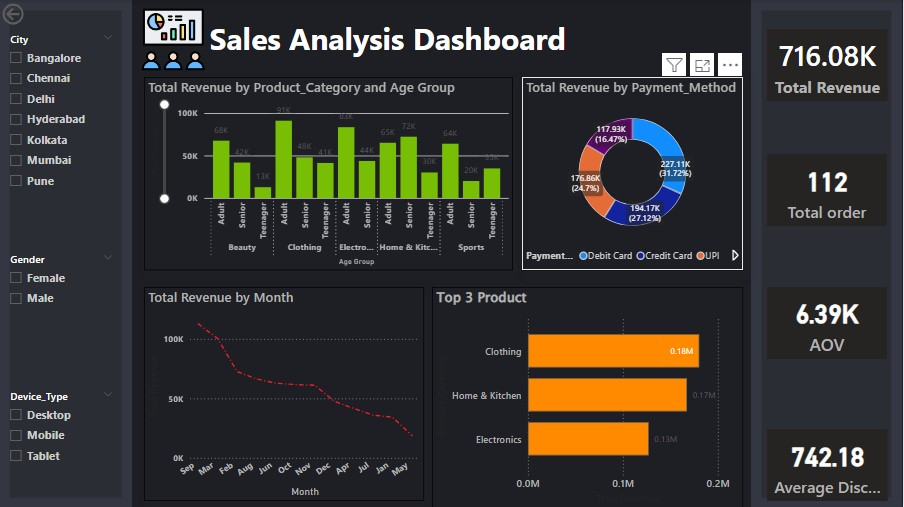

The dashboard page shown, as its layout file describes it:
{"tool":"powerbi","page":{"name":"Page 1","canvas":[1280,720],"ordinal":0},"visuals":[{"type":"shape","box":[1065.8,0,214,720],"z":0},{"type":"shape","box":[0,0,188.5,720],"z":1000},{"type":"slicer","fields":{"Values":["dim_customer.City"]},"box":[2.8,39.7,170.1,246.6],"z":2000},{"type":"slicer","fields":{"Values":["dim_customer.Gender"]},"box":[2.8,351.5,170.1,109.1],"z":3000},{"type":"slicer","fields":{"Values":["dim_product.Device_Type"]},"box":[2.8,545.7,170.1,124.7],"z":4000},{"type":"card","fields":{"Values":["fact_order.Total Revenue"]},"box":[1088.5,41.1,171.5,102],"z":5000},{"type":"actionButton","box":[0,0,100,40],"z":6000},{"type":"card","fields":{"Values":["fact_order.Total order"]},"box":[1088.5,218.3,170.1,102],"z":7000},{"type":"card","fields":{"Values":["fact_order.AOV"]},"box":[1088.5,406.8,170.1,102],"z":8000},{"type":"card","fields":{"Values":["fact_order.Average Discount"]},"box":[1088.5,608,171.5,102],"z":9000},{"type":"lineChart","fields":{"Category":["dim_date.Month"],"Y":["fact_order.Total Revenue"]},"box":[205.5,406.8,396.9,303.3],"z":10000},{"type":"clusteredBarChart","title":"Top 3 Product","fields":{"Category":["dim_product.Product_Category"],"Y":["fact_order.Total Revenue"]},"box":[613.7,406.8,440.8,313.2],"z":11000},{"type":"clusteredColumnChart","fields":{"Category":["dim_product.Product_Category","dim_customer.Age Group"],"Y":["fact_order.Total Revenue"]},"box":[205.5,109.1,523,273.5],"z":12000},{"type":"donutChart","fields":{"Category":["dim_product.Payment_Method"],"Y":["fact_order.Total Revenue"]},"box":[741.3,109.1,313.2,273.5],"z":13000},{"type":"textbox","box":[293.4,19.8,566.9,72.3],"z":14000},{"type":"image","box":[172.9,9.9,148.8,92.1],"z":14001}]}

Visuals, with their boxes on the page's 1280x720 design canvas (x1, y1, x2, y2). These are canvas units, not pixel positions in the 904x507 screenshot, which may show the page scaled, cropped or inside an application window:
shape: 1066:0:1280:720
shape: 0:0:188:720
slicer - dim_customer.City: 3:40:173:286
slicer - dim_customer.Gender: 3:352:173:461
slicer - dim_product.Device_Type: 3:546:173:670
card - fact_order.Total Revenue: 1088:41:1260:143
actionButton: 0:0:100:40
card - fact_order.Total order: 1088:218:1259:320
card - fact_order.AOV: 1088:407:1259:509
card - fact_order.Average Discount: 1088:608:1260:710
lineChart - dim_date.Month x fact_order.Total Revenue: 206:407:602:710
"Top 3 Product" clusteredBarChart: 614:407:1054:720
clusteredColumnChart - dim_product.Product_Category x dim_customer.Age Group: 206:109:728:383
donutChart - dim_product.Payment_Method x fact_order.Total Revenue: 741:109:1054:383
textbox: 293:20:860:92
image: 173:10:322:102
